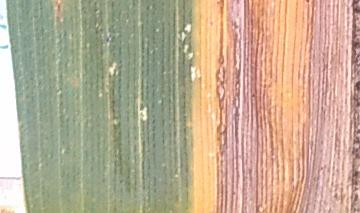tarspot: (105, 26, 113, 47)
